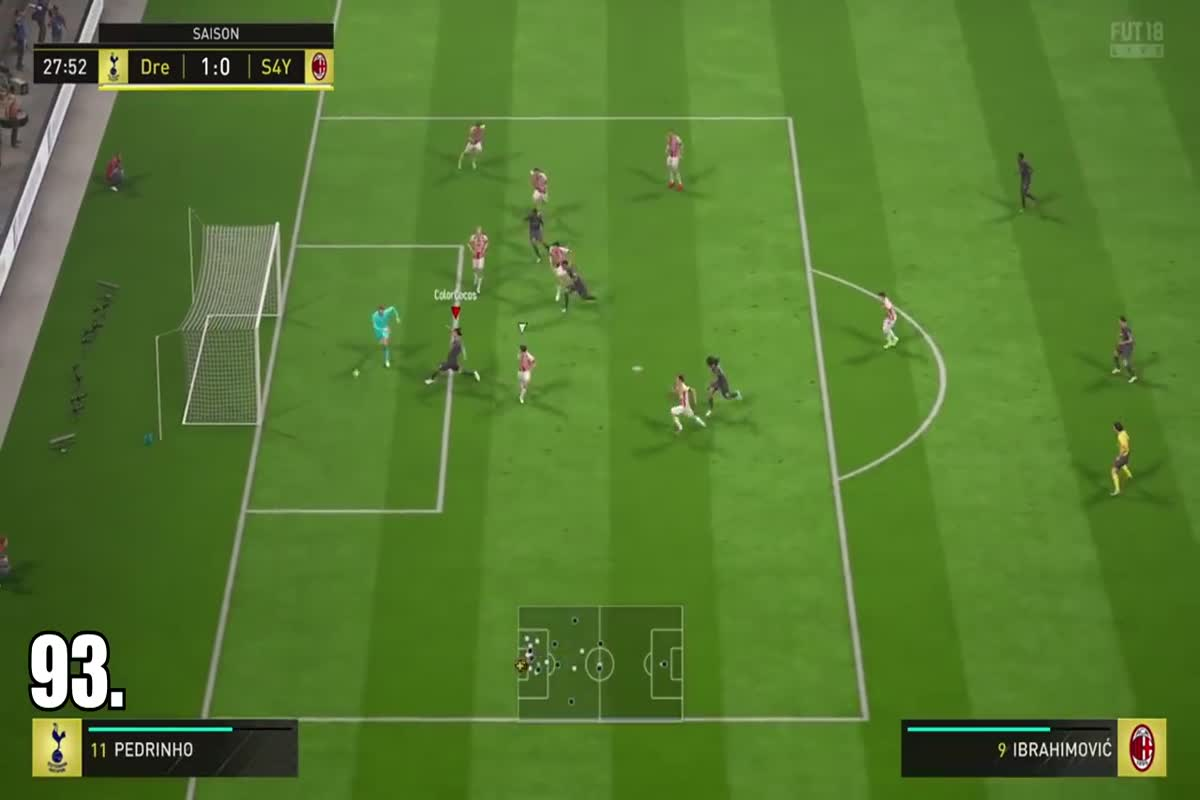ball: (348, 361, 375, 386)
